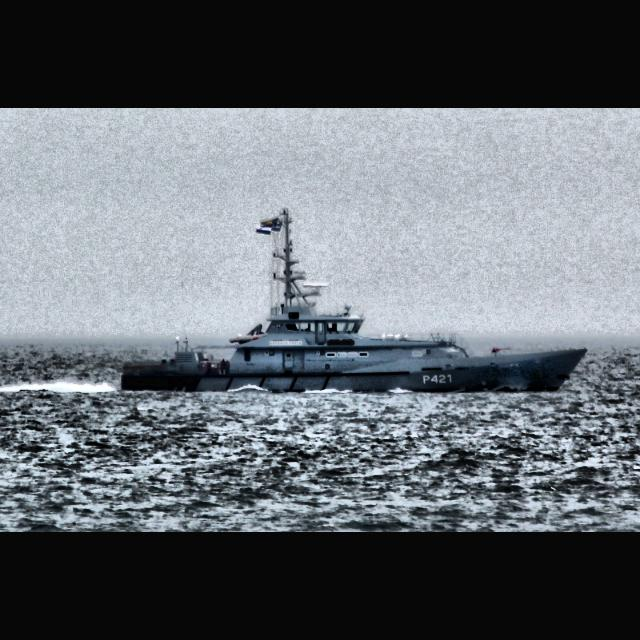patrol_vessel: (120, 207, 590, 396)
